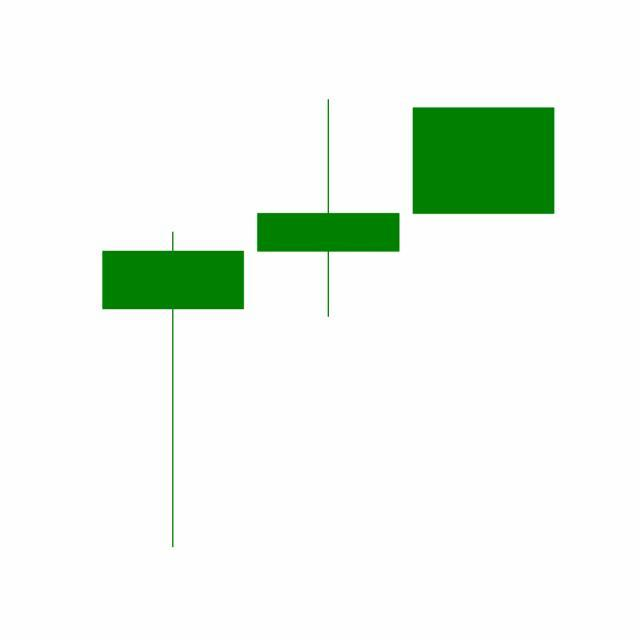Marubozu: (406, 107, 562, 215)
